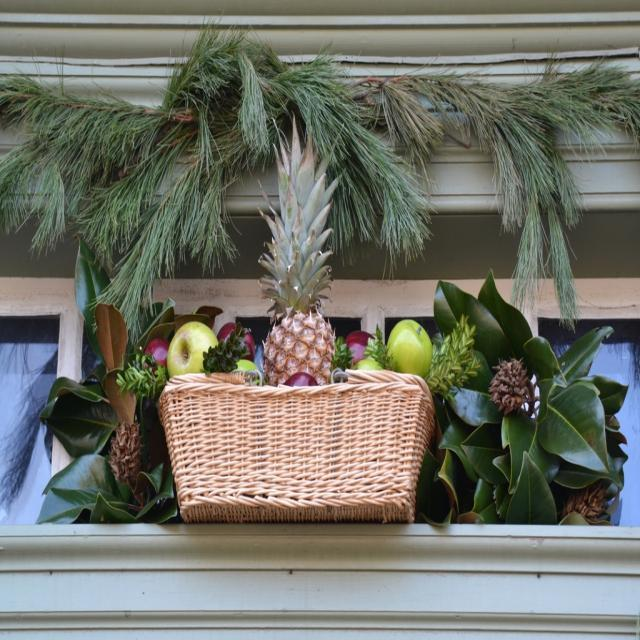Pineapple: (252, 107, 339, 383)
